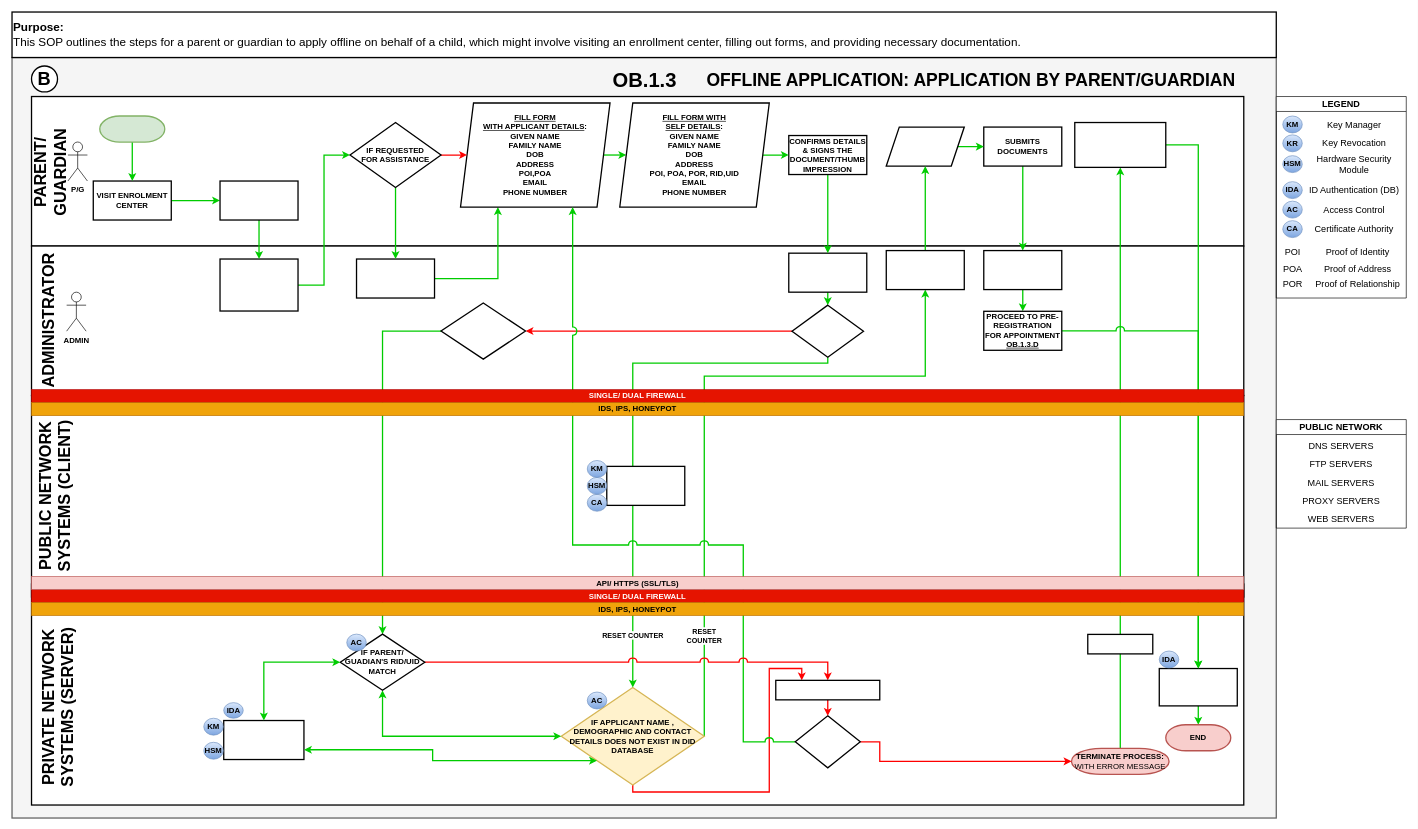
The diagram is 1418 pixels wide and 829 high, and some of its shapes have lost their labels. Each missing label, with the centre of its shape:
"ATTACHES APPLICATION FORM WITH PHOTOCOPIES" belongs at point 1022,270.
"DID USER DATABASE" belongs at point 263,740.
"EXCEPTION AND ERROR HANDLING (COUNTER)" belongs at point 827,689.
"HANDS OVER PHYSICAL COPY OF NEW APPLICATION FORM FOR PARENT/GUARDIAN" belongs at point 258,284.
"IF APPLICANT AGE >5 YEARS" belongs at point 827,331.
"IF PARENT/ GUADIAN'S RID/UID PROVIDED" belongs at point 483,330.
"IF RETRY COUNT <=3" belongs at point 827,741.
"LOGS THE PROCESS AND STATUS" belongs at point 1198,687.
"MASK & ENCRYPT APPLICATION DETAILS" belongs at point 645,485.
"NOTIFICATION GENERATOR" belongs at point 1120,643.
"PROVIDES ASSISTANCE TO FILL THE FORM" belongs at point 395,278.
"PROVIDES PHOTOCOPIES OF POI, POA & POR" belongs at point 925,146.
"RECEIVE APPLICATION REJECTED ACKNOWLEDGEMENT" belongs at point 1120,145.
"RECEIVES FILLED APPPLICATION FORM" belongs at point 827,272.
"REQUEST NEW APPLICATION FORM with PARENT/GUARDIAN" belongs at point 258,200.
"REQUESTS PHOTOCOPIES OF POI, POA & POR" belongs at point 925,270.
"START (OFFLINE)" belongs at point 132,128.
